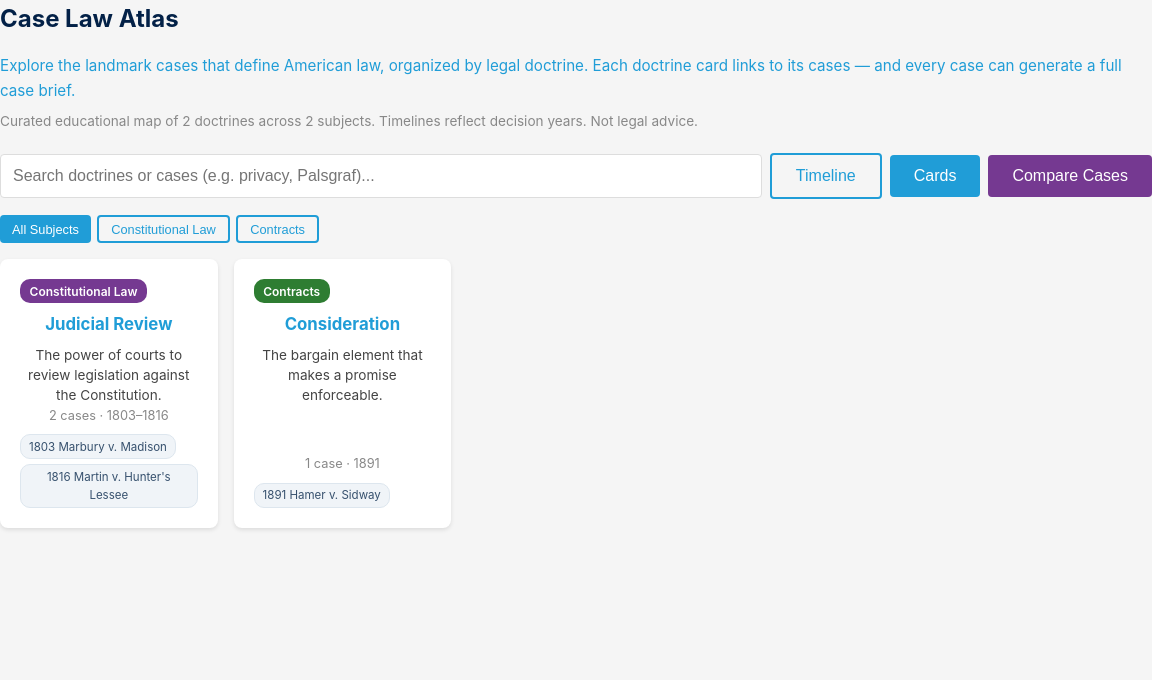
Test case: DoctrineExplorerView › compares two selected cases inside a doctrine detail
The width and height of the screenshot is (1152, 680).
Click the heading "Judicial Review". click: [109, 324]
box: [45,314,172,334]
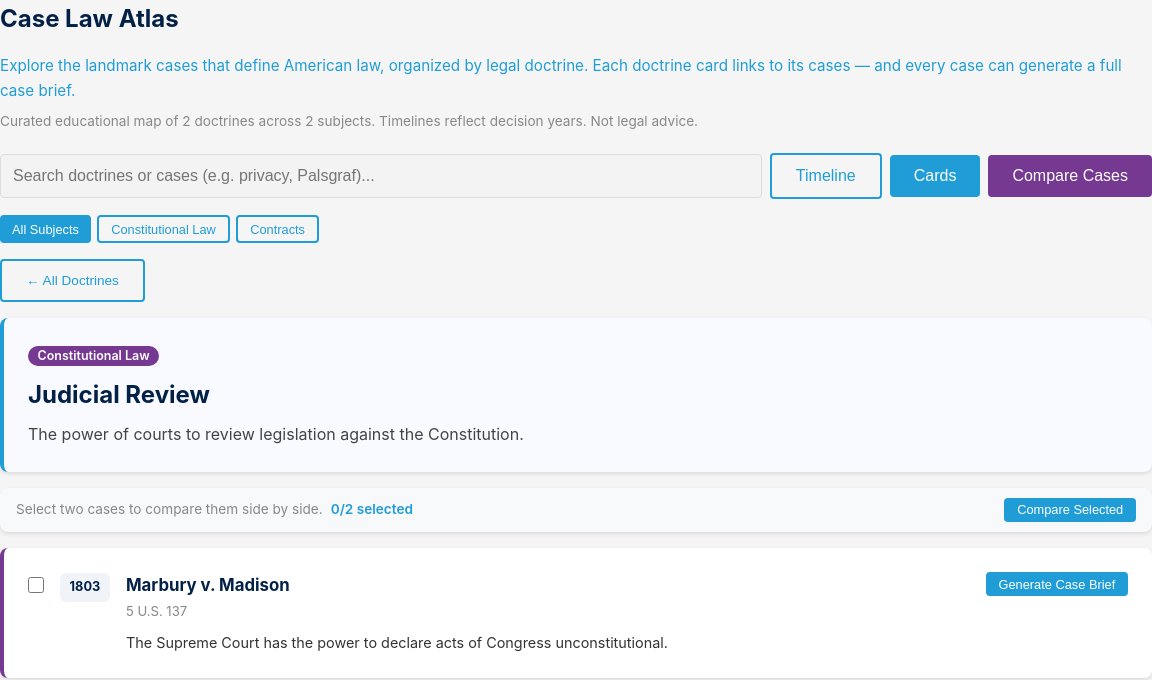
Click the checkbox named "Select Marbury v. Madison for comparison". click: [36, 585]
box: [28,577,44,593]
(page scrolled)
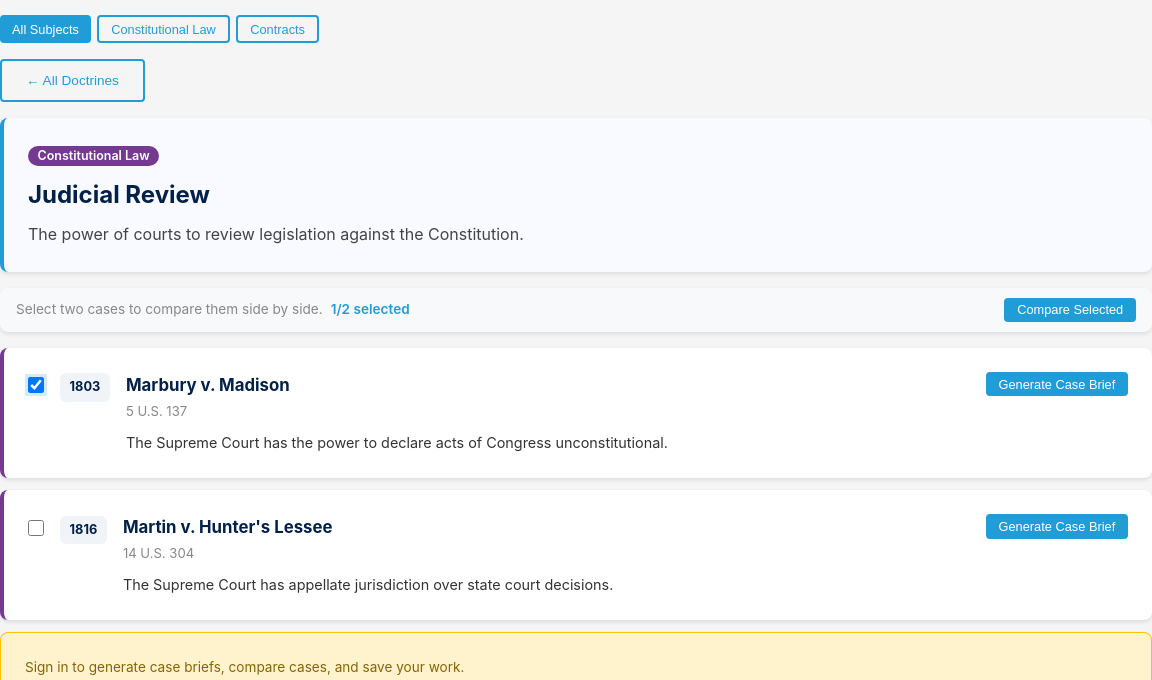
Click the checkbox named "Select Martin v. Hunter's Lessee for comparison". click: [36, 528]
box: [28,520,44,536]
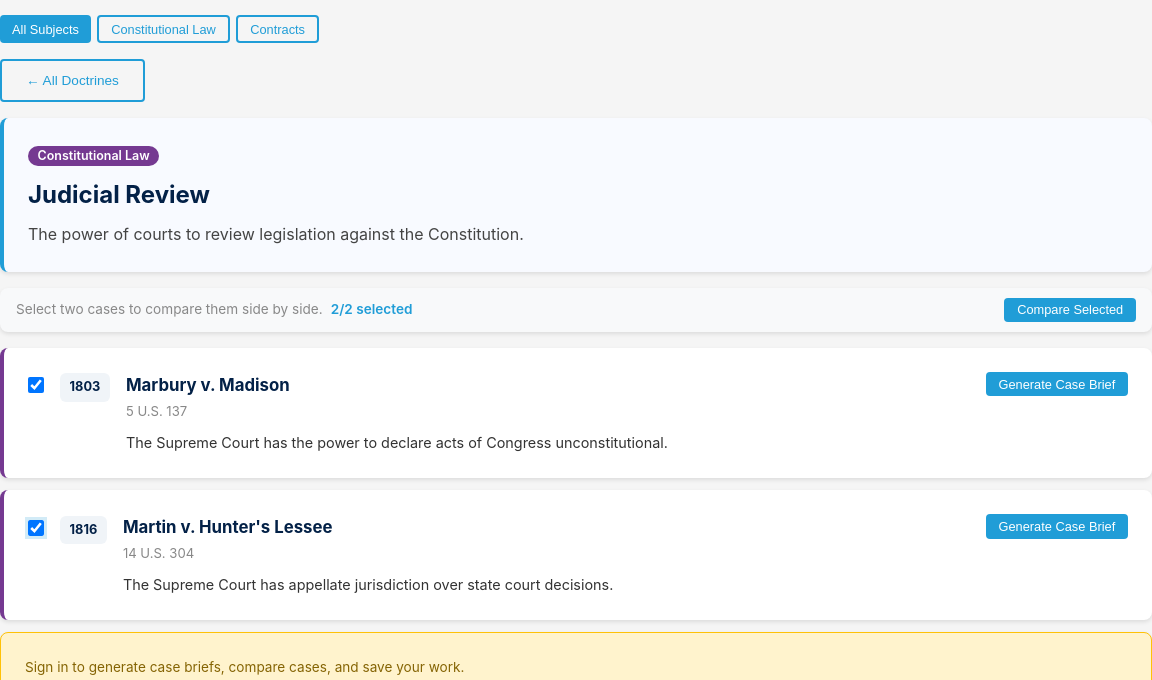
Click the button "Compare Selected". click: [1070, 310]
box: [1004,298,1136,322]
(page scrolled)
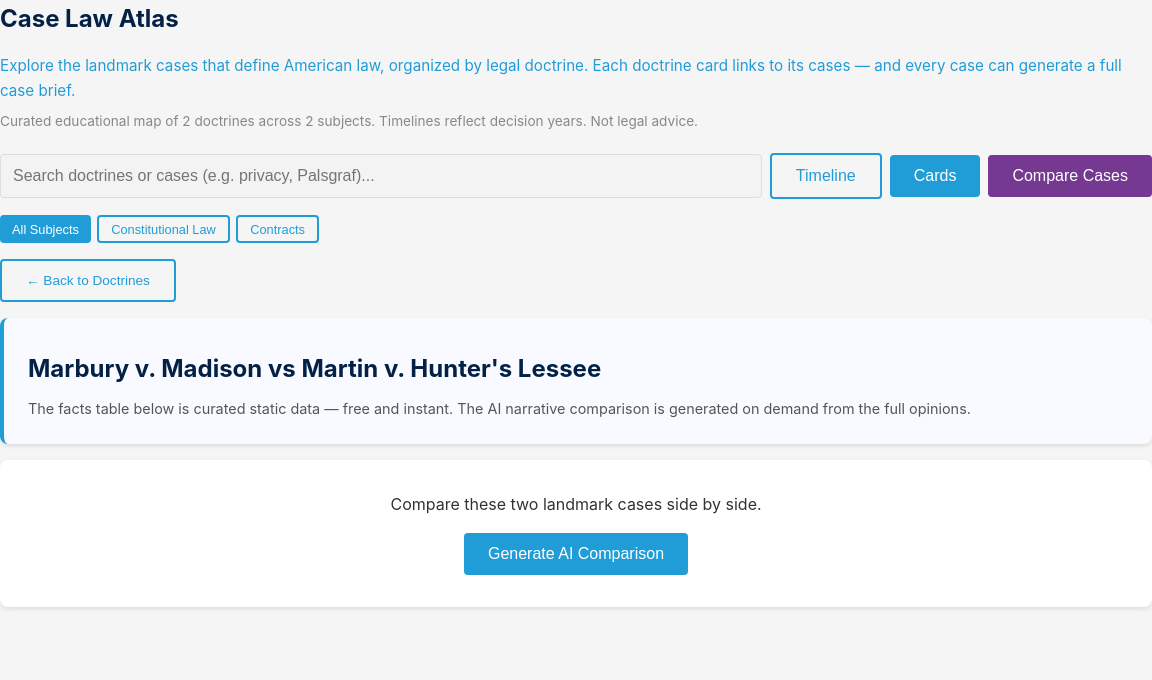
Result: the heading "Marbury v. Madison vs Martin v. Hunter's Lessee" is shown at [28,354,601,383]
Click the button "Generate AI Comparison". click: [576, 554]
box: [464,533,688,575]
(page scrolled)
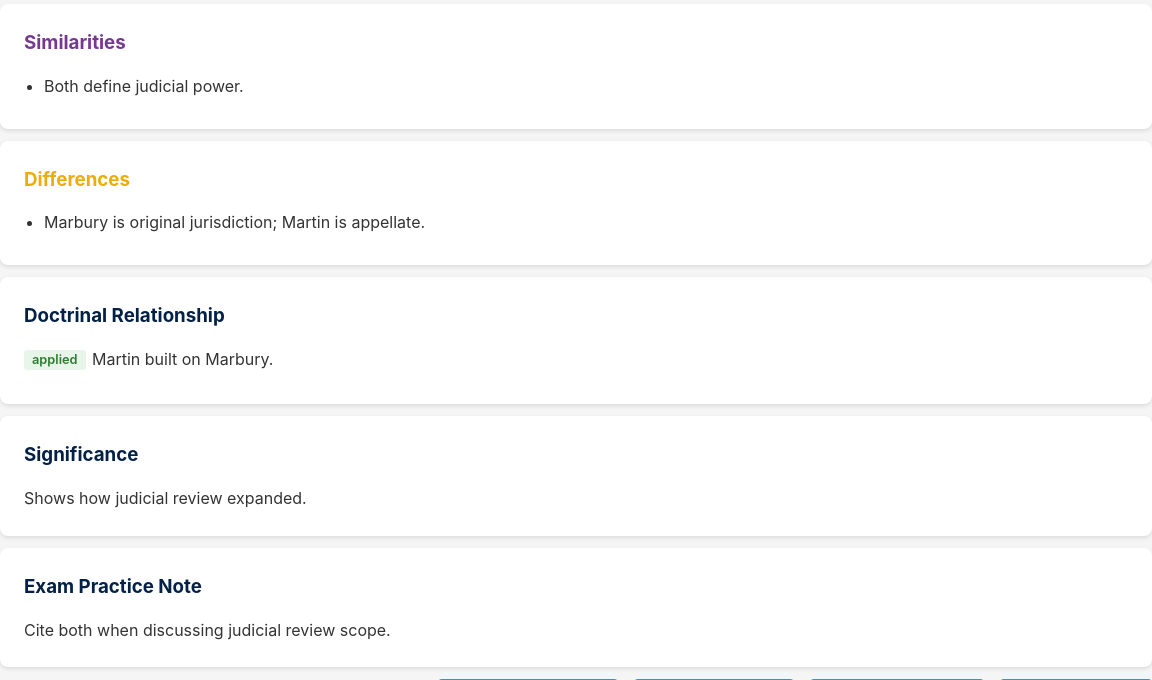
Result: the list item "Both define judicial power." is shown at [44,76,244,96]
Result: the text "applied" is shown at [24,350,86,370]
